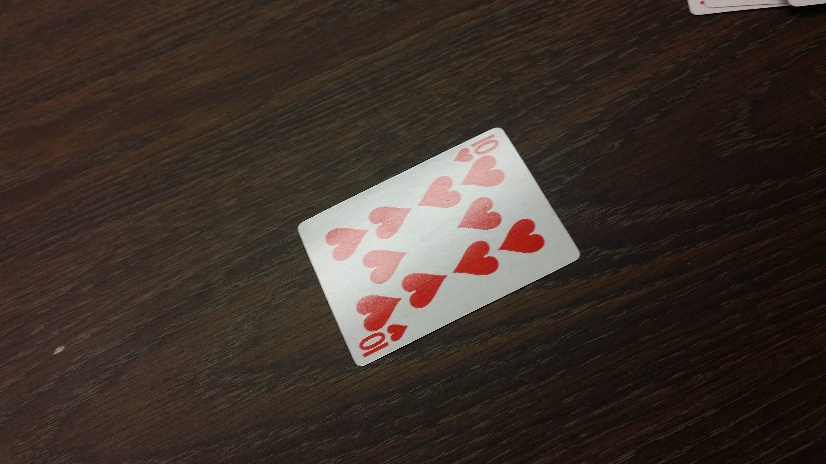H10: (355, 325, 410, 364), (455, 131, 505, 162)
